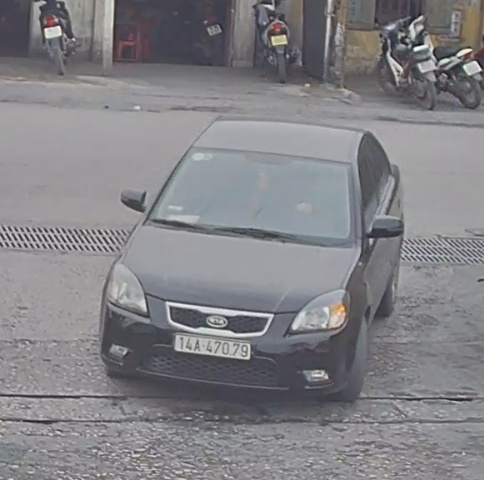vehicle plate: (162, 329, 254, 359)
